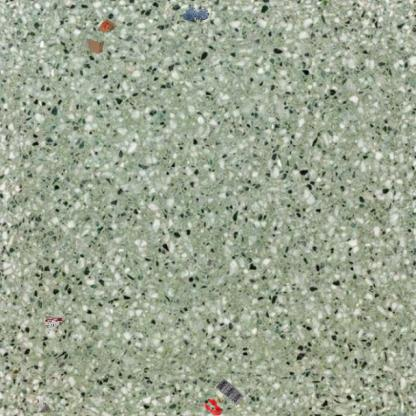dirty: (215, 376, 245, 406), (84, 36, 106, 56), (43, 313, 63, 335), (96, 16, 118, 34), (35, 394, 53, 416)
liquid: (181, 4, 210, 23), (200, 398, 222, 415)
